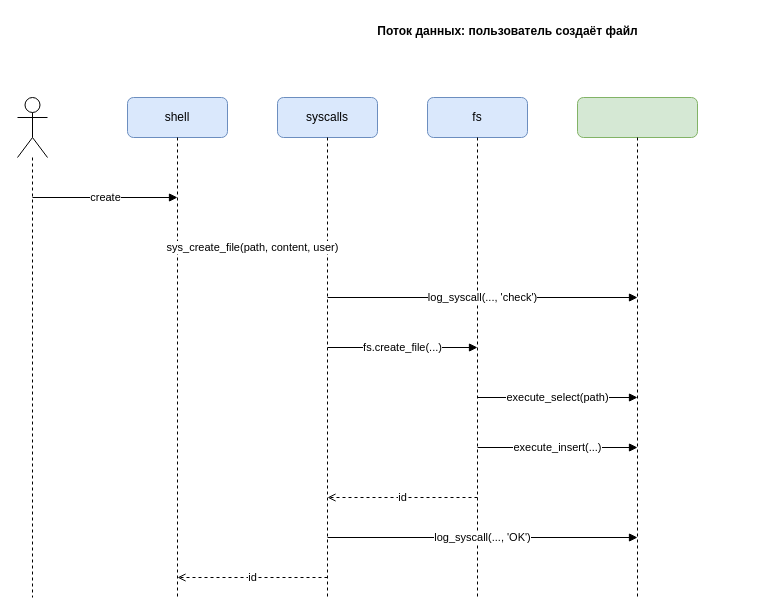
Some shapes in this 775 by 616 pixel diagram are drawn without their labels. The centre of each missing label's shape, as x and y in pixels:
"db (SQLite)" goes at point 637,117.
"user" goes at point 32,127.
